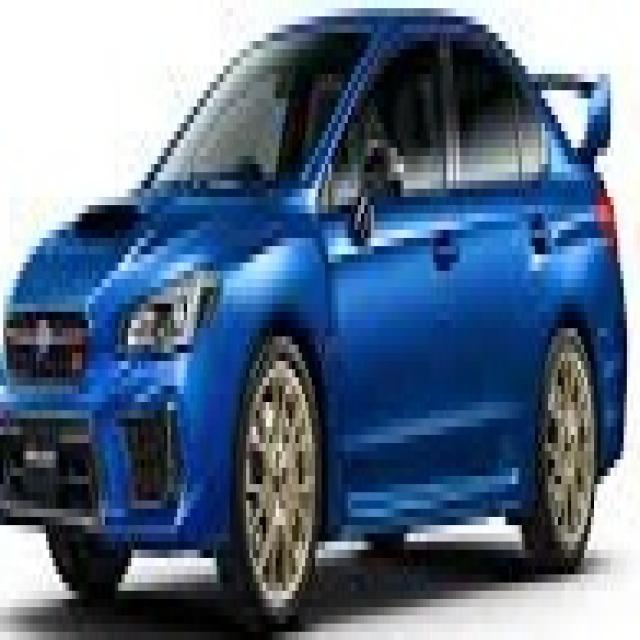blue: (0, 7, 629, 629)
